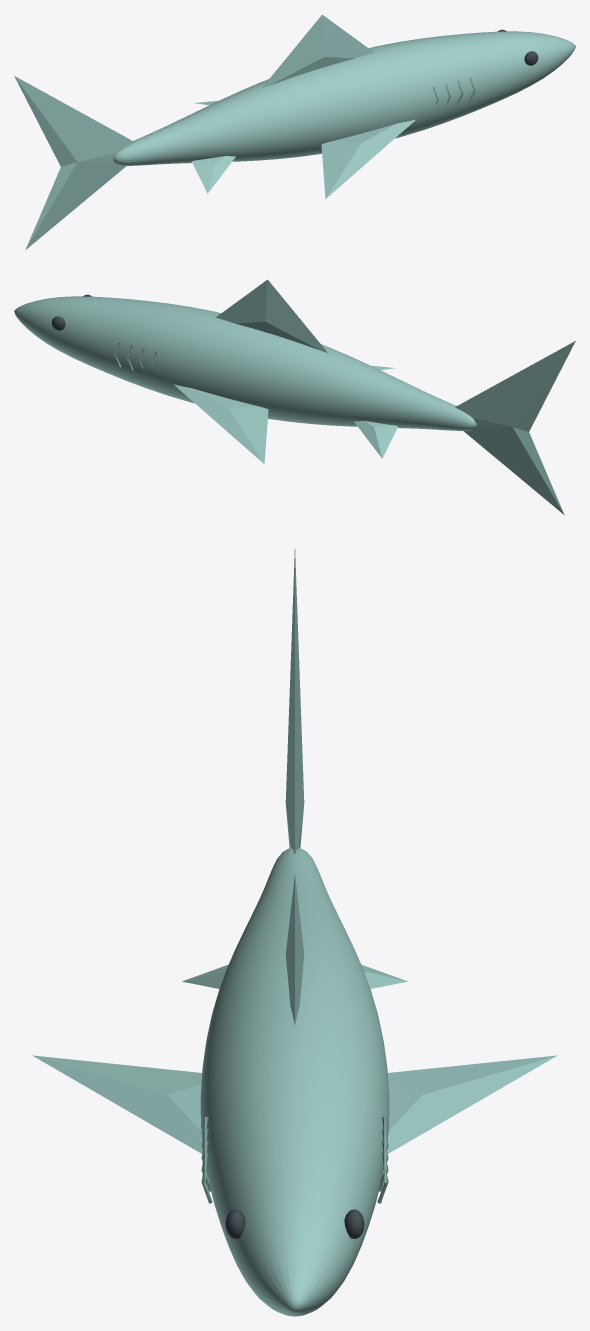
3 views of the same model, one above another, from view 1: azimuth 30°, elevation 25°; view 2: azimuth 150°, elevation 25°; view 3: azimuth 270°, elevation 25° (orthographic). The views are drawn at different scales.
Visible parts, largest first — view 1: Body, Tail, Dorsal, Pectoral, Pelvic; view 2: Body, Tail, Dorsal, Pectoral.001, Pelvic.001; view 3: Body, Pectoral.001, Pectoral, Tail, Dorsal.
Part boxes in pixels (left/top/right/bottom): Body: left=113, top=31, right=575, bottom=165; Tail: left=14, top=76, right=134, bottom=249; Dorsal: left=262, top=14, right=373, bottom=87; Pectoral: left=321, top=119, right=416, bottom=198; Pelvic: left=192, top=156, right=235, bottom=193; Body: left=14, top=296, right=476, bottom=430; Tail: left=455, top=341, right=575, bottom=514; Dorsal: left=216, top=279, right=327, bottom=352; Pectoral.001: left=173, top=384, right=268, bottom=463; Pelvic.001: left=354, top=421, right=397, bottom=458; Body: left=200, top=848, right=389, bottom=1316; Pectoral.001: left=387, top=1055, right=557, bottom=1153; Pectoral: left=32, top=1055, right=202, bottom=1153; Tail: left=285, top=549, right=304, bottom=854; Dorsal: left=285, top=875, right=304, bottom=1024.
Bounding box in the file's own units: 252 × 76 × 102.
